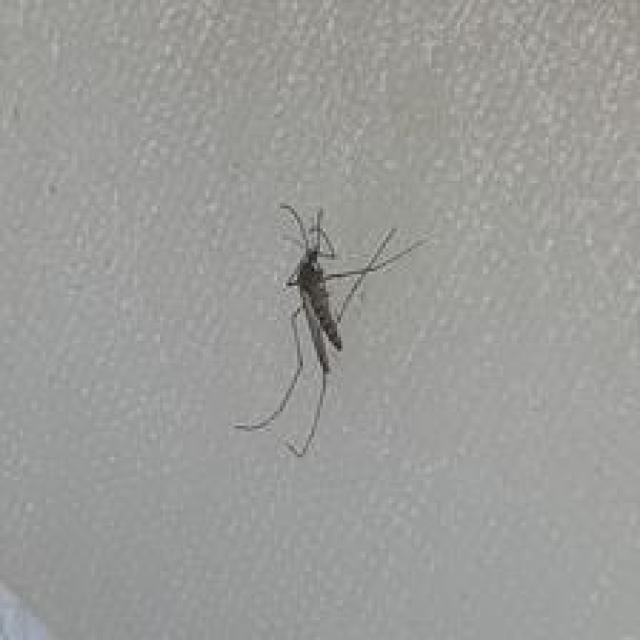Culex: (233, 202, 430, 458)
